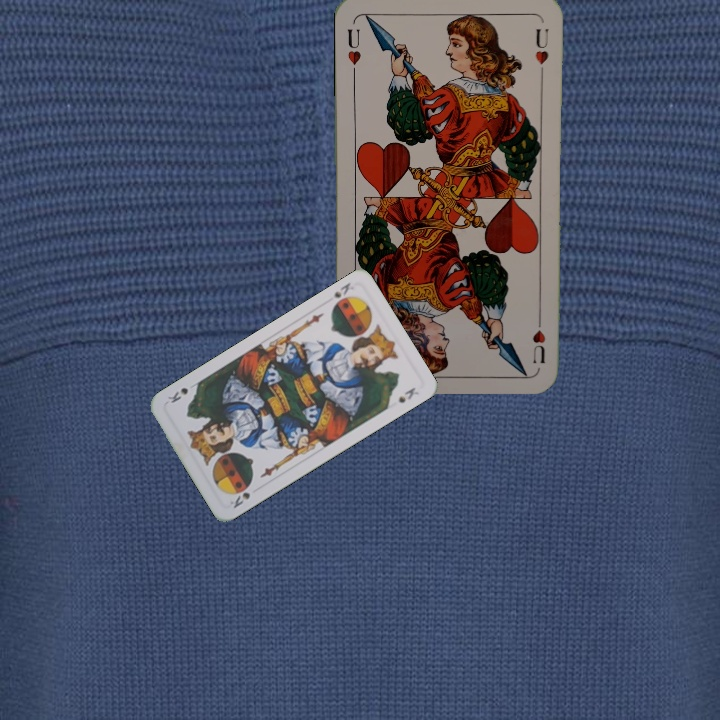HU: (529, 308, 548, 366), (343, 25, 363, 78)
SK: (226, 488, 253, 511), (330, 278, 357, 301)
